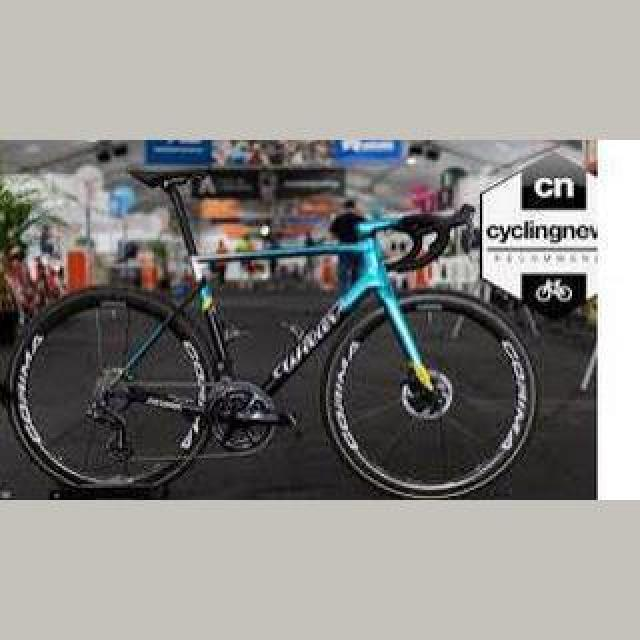Person: (4, 164, 540, 500)
